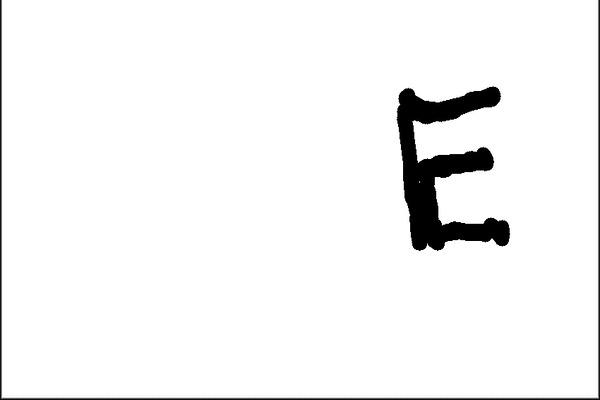E: (390, 81, 515, 253)
